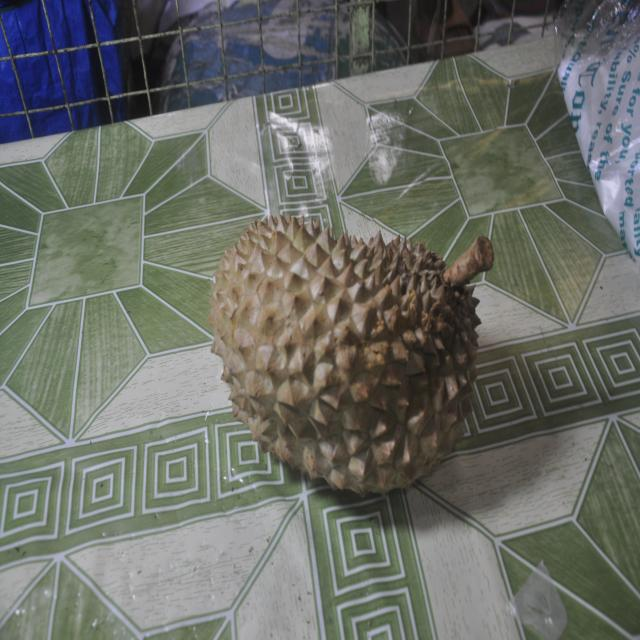mature: (209, 217, 493, 495)
